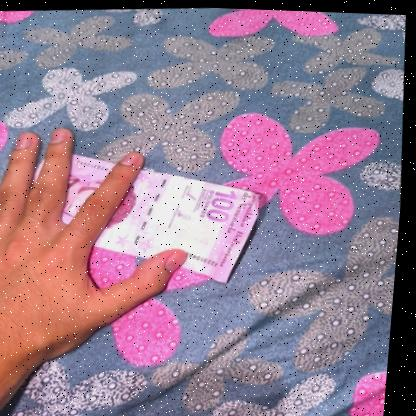vef_front: (56, 142, 270, 291)
